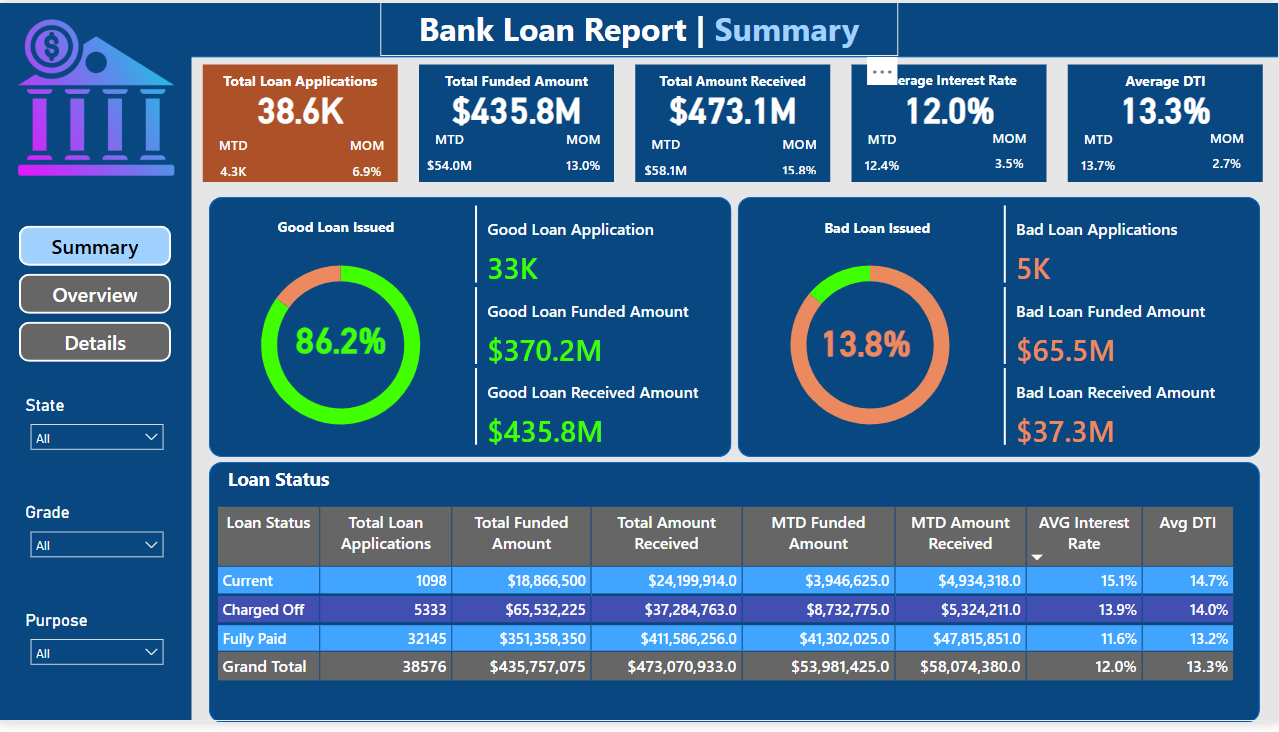

What the dashboard file says about the page in this screenshot:
{"tool":"powerbi","page":{"name":"Summary","canvas":[1280,720],"ordinal":0},"visuals":[{"type":"shape","box":[0.1,50.1,192.5,668.8],"z":0,"group":"g9"},{"type":"shape","box":[204.2,62.5,195,117.5],"z":0,"group":"g2"},{"type":"shape","box":[420.3,62.5,195,117.5],"z":0,"group":"g3"},{"type":"shape","box":[636.5,62.5,195,117.5],"z":0,"group":"g10"},{"type":"shape","box":[852.6,62.5,195,117.5],"z":0,"group":"g4"},{"type":"shape","box":[1068.8,62.5,195,117.5],"z":0,"group":"g5"},{"type":"shape","box":[209.7,195,522.4,260],"z":0},{"type":"shape","box":[0,0,1280,55.2],"z":1000,"group":"g8"},{"type":"cardVisual","fields":{"Data":["bank_loan_data.Total Loan Applications"]},"box":[204.2,63.7,195,77.5],"z":1000,"group":"g2"},{"type":"cardVisual","fields":{"Data":["bank_loan_data.Total Funded Amount"]},"box":[420.3,63.7,195,77.5],"z":1000,"group":"g3"},{"type":"cardVisual","fields":{"Data":["bank_loan_data.Total Amount Received"]},"box":[636.5,63.7,195,77.5],"z":1000,"group":"g10"},{"type":"cardVisual","fields":{"Data":["bank_loan_data.AVG Interest Rate"]},"box":[852.6,63.7,195,77.5],"z":1000,"group":"g4"},{"type":"cardVisual","fields":{"Data":["bank_loan_data.Avg DTI"]},"box":[1068.8,63.7,195,77.5],"z":1000,"group":"g5"},{"type":"shape","box":[738.2,195,522.4,260],"z":1000},{"type":"pageNavigator","box":[20.1,224.1,152.9,136.2],"z":1000,"group":"g9"},{"type":"textbox","box":[381.4,0,517.3,53.8],"z":2000,"group":"g8"},{"type":"textbox","box":[204.2,63.7,195,28.8],"z":2000,"group":"g2"},{"type":"textbox","box":[420.3,63.7,195,28.8],"z":2000,"group":"g3"},{"type":"textbox","box":[636.5,63.7,195,28.8],"z":2000,"group":"g10"},{"type":"textbox","box":[852.6,63.7,195,28.8],"z":2000,"group":"g4"},{"type":"textbox","box":[1068.8,63.7,195,28.8],"z":2000,"group":"g5"},{"type":"donutChart","fields":{"Category":["bank_loan_data.Good vs Bad Loan"],"Y":["bank_loan_data.MTD Loan Applications"]},"box":[212.5,238.8,258.8,208.8],"z":2000},{"type":"group","id":"g1","title":"Group 3","box":[21.3,392.7,152.9,291.1],"z":2000,"group":"g9"},{"type":"group","id":"g2","title":"Group 1","box":[203.8,62.5,195.4,118],"z":3000,"group":"g6"},{"type":"cardVisual","title":"MTD","fields":{"Data":["bank_loan_data.MTD Funded Amount"]},"box":[420.3,127.7,61,46],"z":3000,"group":"g3"},{"type":"cardVisual","title":"MTD","fields":{"Data":["bank_loan_data.MTD Avg interest rate"]},"box":[852.6,128,61,46],"z":3000,"group":"g4"},{"type":"cardVisual","title":"MTD","fields":{"Data":["bank_loan_data.MTD Avg DTI"]},"box":[1068.8,128,61,46],"z":3000,"group":"g5"},{"type":"cardVisual","title":"MTD","fields":{"Data":["bank_loan_data.MTD Amount Received"]},"box":[636.5,132.6,61,46],"z":3000,"group":"g10"},{"type":"cardVisual","title":"MTD","fields":{"Data":["bank_loan_data.MTD Loan Applications"]},"box":[203.8,133.9,61,46.6],"z":3000,"group":"g2"},{"type":"textbox","box":[238.8,210,196.2,28.8],"z":3000},{"type":"group","id":"g3","title":"Group 1","box":[420.3,62.5,195,117.5],"z":4000,"group":"g6"},{"type":"cardVisual","title":"MOM","fields":{"Data":["bank_loan_data.MOM% Avg Interest rate"]},"box":[974.3,126.3,73.6,49.1],"z":4000,"group":"g4"},{"type":"cardVisual","title":"MOM","fields":{"Data":["bank_loan_data.MOM% Avg DTI"]},"box":[1194,126.3,68.7,47.8],"z":4000,"group":"g5"},{"type":"cardVisual","title":"MOM","fields":{"Data":["bank_loan_data.MoM% Funded Amount"]},"box":[554,127.7,61.3,46],"z":4000,"group":"g3"},{"type":"cardVisual","title":"MOM","fields":{"Data":["bank_loan_data.MoM% Amount Received"]},"box":[770.2,132.9,61.3,45.4],"z":4000,"group":"g10"},{"type":"cardVisual","title":"MOM","fields":{"Data":["bank_loan_data.MoM Loan Application"]},"box":[337.9,133.9,61.3,46.6],"z":4000,"group":"g2"},{"type":"cardVisual","fields":{"Data":["bank_loan_data.Good Loan %"]},"box":[271.2,293.8,141.2,71.2],"z":4000},{"type":"shape","box":[209.9,459.7,1050.8,260.6],"z":5000},{"type":"tableEx","fields":{"Values":["bank_loan_data.loan_status","bank_loan_data.Total Loan Applications","bank_loan_data.Total Funded Amount","bank_loan_data.Total Amount Received","bank_loan_data.MTD Funded Amount","bank_loan_data.MTD Amount Received","bank_loan_data.AVG Interest Rate","bank_loan_data.Avg DTI"]},"box":[212.5,500,1041.2,205],"z":6000},{"type":"group","id":"g4","title":"Group 1","box":[852.6,62.5,195.3,117.5],"z":7000,"group":"g6"},{"type":"textbox","box":[223.8,458.8,205,41.2],"z":7000},{"type":"group","id":"g5","title":"Group 1","box":[1068.8,62.5,195,117.5],"z":8000,"group":"g6"},{"type":"donutChart","fields":{"Category":["bank_loan_data.Good vs Bad Loan"],"Y":["bank_loan_data.Good Loan %"]},"box":[742.5,238.8,257.5,208.8],"z":8000},{"type":"cardVisual","fields":{"Data":["bank_loan_data.Bad Loan %"]},"box":[801.1,296.8,130.3,91.7],"z":9000},{"type":"textbox","box":[780,211.2,196.2,28.8],"z":10000},{"type":"cardVisual","fields":{"Data":["bank_loan_data.Bad Loan Applications","bank_loan_data.Bad Loan Funded Amount","bank_loan_data.Bad Loan Received Amount"]},"box":[1000,198.8,258.8,251.2],"z":11000},{"type":"slicer","title":"State","fields":{"Values":["bank_loan_data.address_state"]},"box":[21.3,392.7,152.9,76.2],"z":11000,"group":"g1"},{"type":"group","id":"g6","title":"Group 2","box":[203.8,62.5,1060,118],"z":12000},{"type":"slicer","title":"Grade","fields":{"Values":["bank_loan_data.grade"]},"box":[21.3,500.2,152.9,76.2],"z":12000,"group":"g1"},{"type":"group","id":"g7","title":"Group 6","box":[0,0,1280,718.8],"z":13000},{"type":"slicer","title":"Purpose","fields":{"Values":["bank_loan_data.purpose"]},"box":[21.3,607.6,152.9,76.2],"z":13000,"group":"g1"},{"type":"image","box":[10,10,173.8,171.2],"z":14000},{"type":"group","id":"g8","title":"Group 4","box":[0,0,1280,55.2],"z":15000,"group":"g7"},{"type":"cardVisual","fields":{"Data":["bank_loan_data.Good Loan Application","bank_loan_data.Good Loan Funded Amount","bank_loan_data.Good Loan Received Amount"]},"box":[471.2,198.8,258.8,251.2],"z":15000},{"type":"group","id":"g9","title":"Group 5","box":[0.1,50.1,192.5,668.8],"z":16000,"group":"g7"},{"type":"group","id":"g10","title":"Group 1","box":[636.5,62.5,195,117.5],"z":25001,"group":"g6"}]}

Visuals, with their boxes in screenshot pixels (x1, y1, x2, y2), scaled from the page's 1280x720 canvas onto the 1279x732 screenshot:
shape: [0,51,192,731]
shape: [204,64,399,183]
shape: [420,64,615,183]
shape: [636,64,831,183]
shape: [852,64,1047,183]
shape: [1068,64,1263,183]
shape: [210,198,732,463]
shape: [0,0,1278,56]
cardVisual - bank_loan_data.Total Loan Applications: [204,65,399,144]
cardVisual - bank_loan_data.Total Funded Amount: [420,65,615,144]
cardVisual - bank_loan_data.Total Amount Received: [636,65,831,144]
cardVisual - bank_loan_data.AVG Interest Rate: [852,65,1047,144]
cardVisual - bank_loan_data.Avg DTI: [1068,65,1263,144]
shape: [738,198,1260,463]
pageNavigator: [20,228,173,366]
textbox: [381,0,898,55]
textbox: [204,65,399,94]
textbox: [420,65,615,94]
textbox: [636,65,831,94]
textbox: [852,65,1047,94]
textbox: [1068,65,1263,94]
donutChart - bank_loan_data.Good vs Bad Loan x bank_loan_data.MTD Loan Applications: [212,243,471,455]
"Group 3" group: [21,399,174,695]
"Group 1" group: [204,64,399,184]
"MTD" cardVisual: [420,130,481,177]
"MTD" cardVisual: [852,130,913,177]
"MTD" cardVisual: [1068,130,1129,177]
"MTD" cardVisual: [636,135,697,182]
"MTD" cardVisual: [204,136,265,184]
textbox: [239,214,435,243]
"Group 1" group: [420,64,615,183]
"MOM" cardVisual: [974,128,1047,178]
"MOM" cardVisual: [1193,128,1262,177]
"MOM" cardVisual: [554,130,615,177]
"MOM" cardVisual: [770,135,831,181]
"MOM" cardVisual: [338,136,399,184]
cardVisual - bank_loan_data.Good Loan %: [271,299,412,371]
shape: [210,467,1260,731]
tableEx - bank_loan_data.loan_status x bank_loan_data.Total Loan Applications: [212,508,1253,717]
"Group 1" group: [852,64,1047,183]
textbox: [224,466,428,508]
"Group 1" group: [1068,64,1263,183]
donutChart - bank_loan_data.Good vs Bad Loan x bank_loan_data.Good Loan %: [742,243,999,455]
cardVisual - bank_loan_data.Bad Loan %: [800,302,931,395]
textbox: [779,215,975,244]
cardVisual - bank_loan_data.Bad Loan Applications x bank_loan_data.Bad Loan Funded Amount: [999,202,1258,458]
"State" slicer: [21,399,174,477]
"Group 2" group: [204,64,1263,184]
"Grade" slicer: [21,509,174,586]
"Group 6" group: [0,0,1278,731]
"Purpose" slicer: [21,618,174,695]
image: [10,10,184,184]
"Group 4" group: [0,0,1278,56]
cardVisual - bank_loan_data.Good Loan Application x bank_loan_data.Good Loan Funded Amount: [471,202,729,458]
"Group 5" group: [0,51,192,731]
"Group 1" group: [636,64,831,183]
